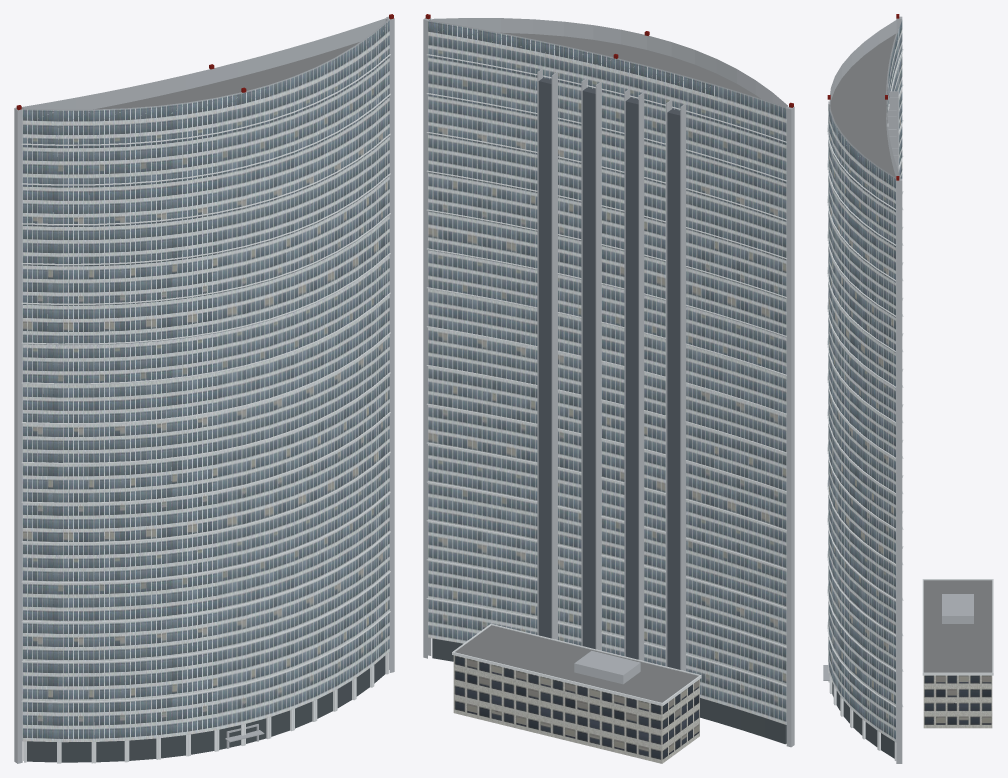
File: dentsu_building.glb
3 renders of one model, left to right at view 1: azimuth 30°, elevation 25°; view 2: azimuth 150°, elevation 25°; view 3: azimuth 270°, elevation 25°, orthographic. The views are drawn at different scales.
Visible parts, largest first — view 1: dentsu_building; view 2: dentsu_building; view 3: dentsu_building.
Boxes of the visible parts, x1,y1,x2,y2 form: dentsu_building: [14, 14, 394, 763]; dentsu_building: [423, 14, 794, 763]; dentsu_building: [823, 14, 993, 763].
Bounding box in the file's own units: 128 × 213 × 56.01.
Materials: 3 (3 with a texture image).
